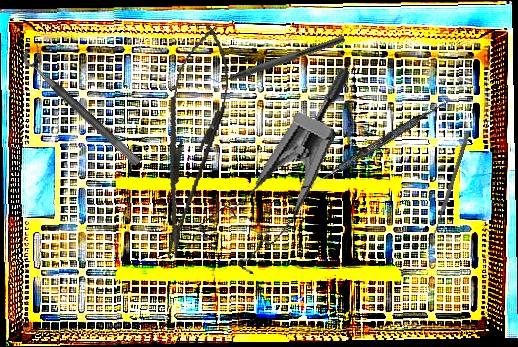Chopper: (205, 26, 346, 91)
Fixation Ring: (18, 41, 151, 168)
Needle Holder: (143, 21, 239, 263)
Spatula Surgical: (300, 95, 450, 197)
Speculum: (188, 41, 355, 287)
Surgical Spoon: (429, 133, 470, 244)
